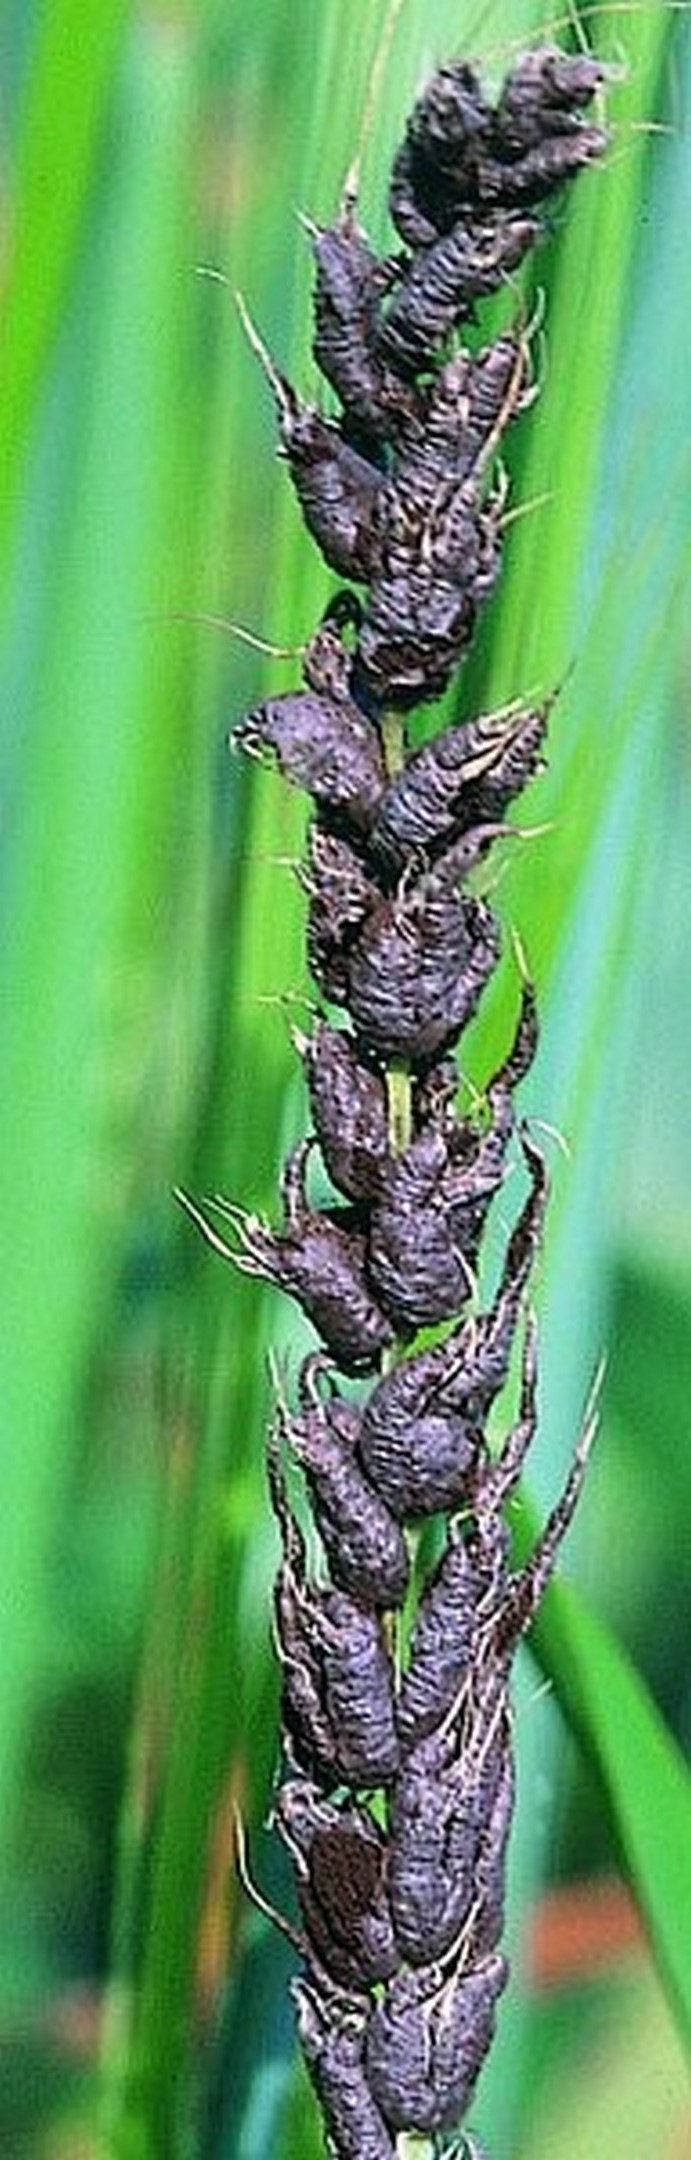Wheat Loose Smut: (193, 12, 628, 2132)
